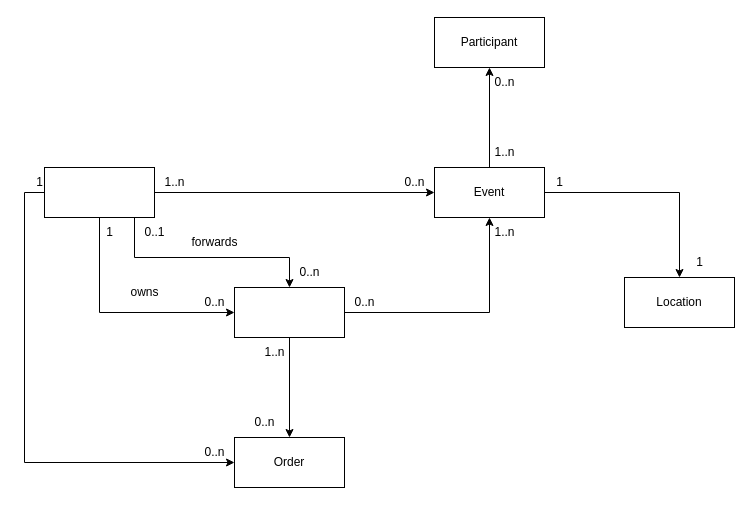
Image size: 752x505. Some labels were removed from this diagram. Each missing label, with the centre of its shape:
"Ticket" goes at (x=289, y=312).
"User" goes at (x=99, y=192).
